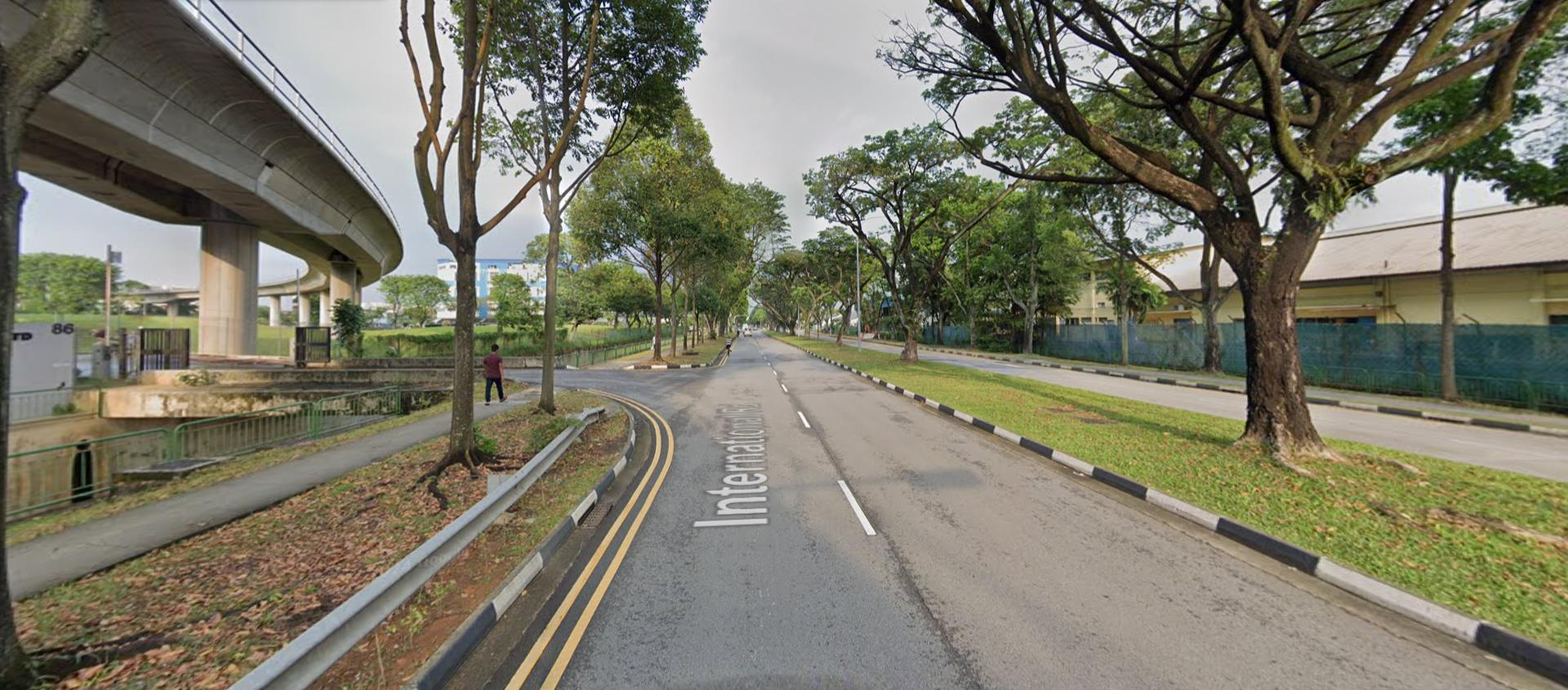defect: (582, 504, 615, 527)
